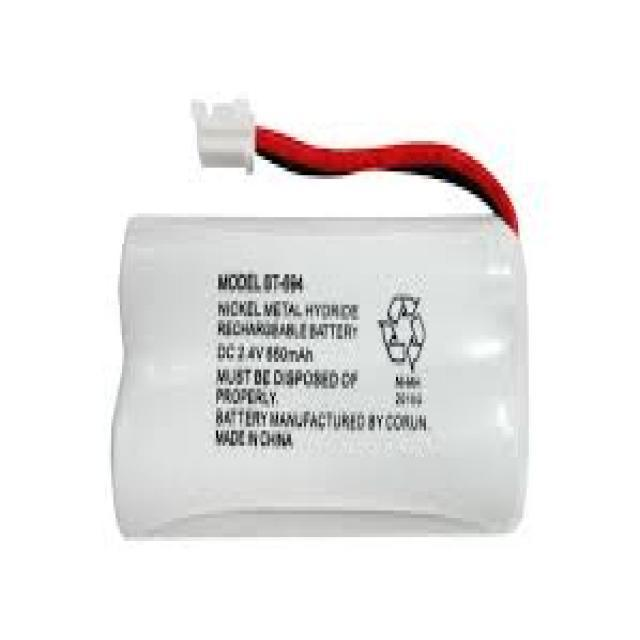battery: (105, 98, 533, 544)
